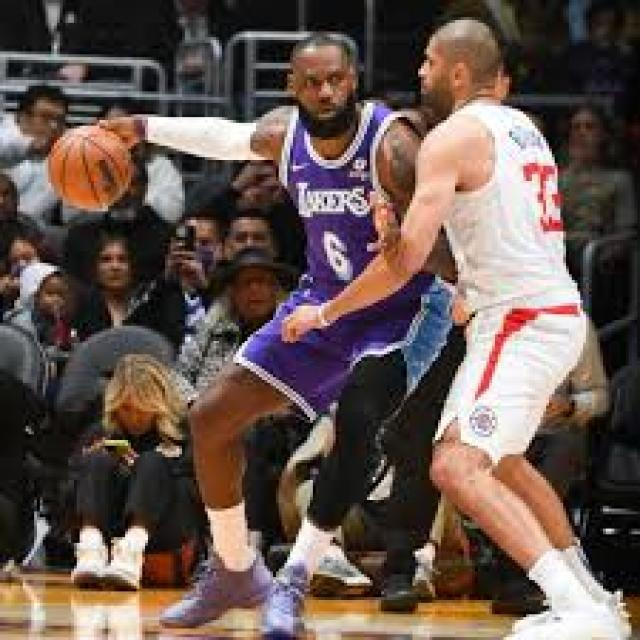rim: (54, 126, 134, 203)
